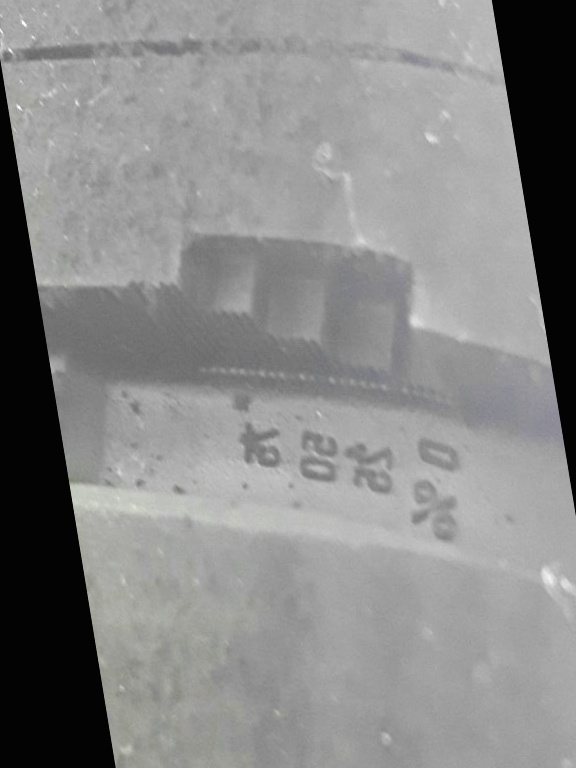temoin:95: (109, 210, 472, 437)
